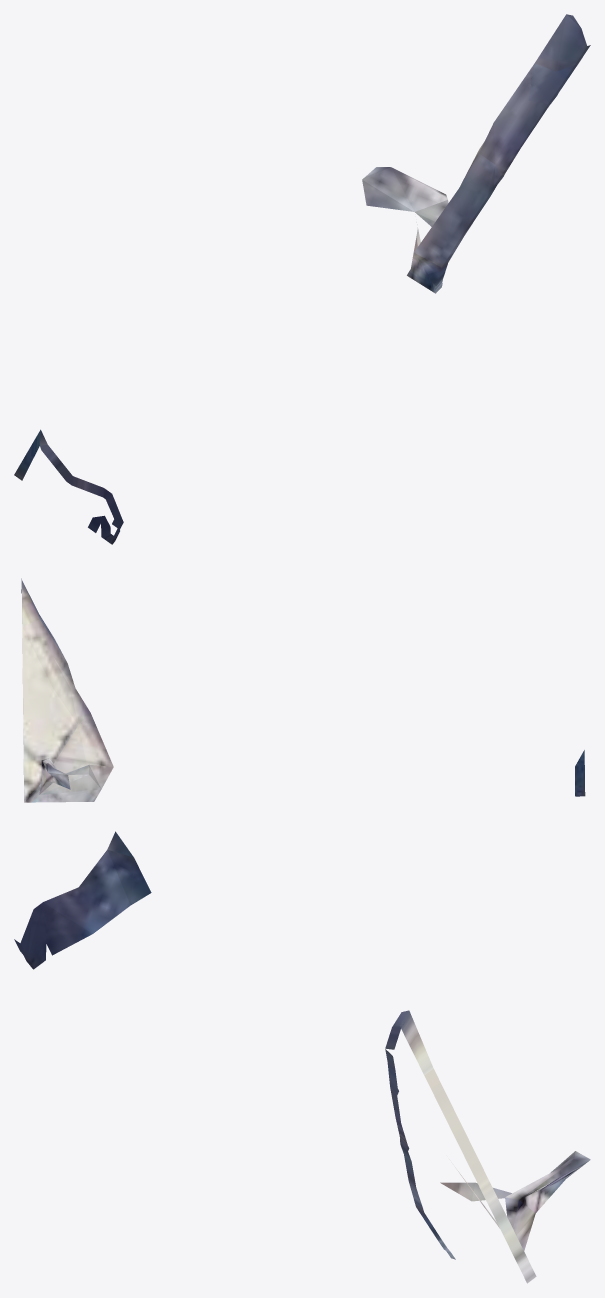
3 views of the same model, one above another, from view 1: azimuth 30°, elevation 25°; view 2: azimuth 150°, elevation 25°; view 3: azimuth 270°, elevation 25° (orthographic). The views are drawn at different scales.
Size of the model in its own units: 35.45 by 13.18 by 21.99.
Materials: 1 (1 with a texture image).
